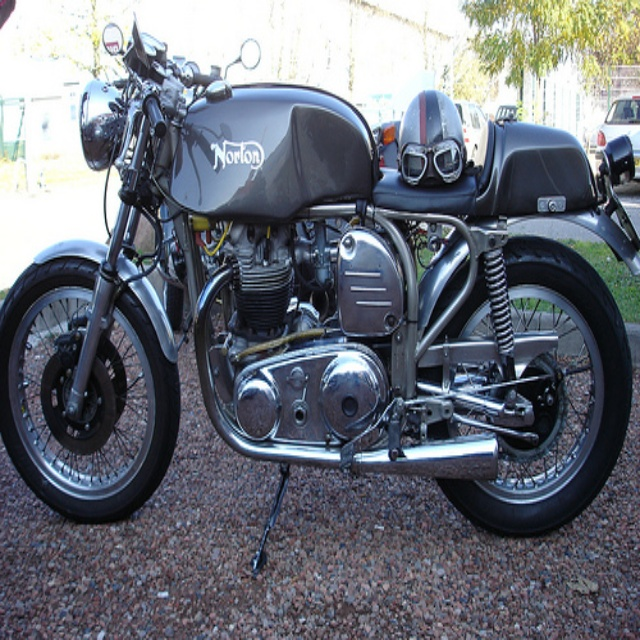Motorcycle: (1, 17, 640, 538)
